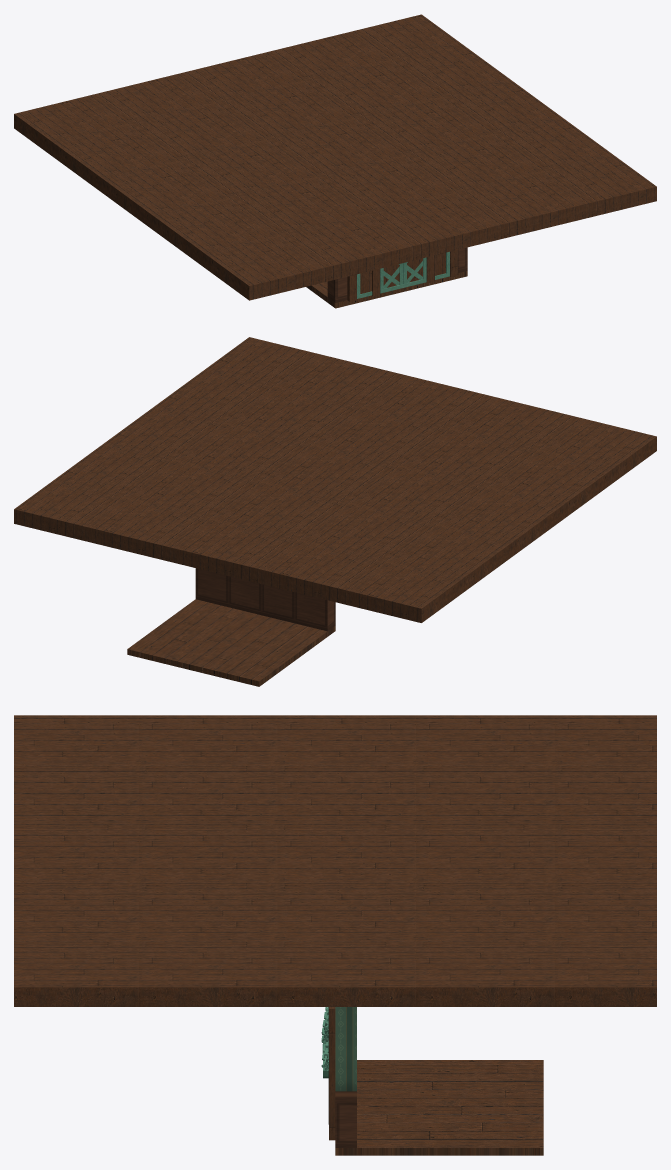
The model's file is Livingroom_Kit.fbx.
3 renders of one model, top to bottom at view 1: azimuth 30°, elevation 25°; view 2: azimuth 150°, elevation 25°; view 3: azimuth 270°, elevation 25°, orthographic. The views are drawn at different scales.
Visible parts, largest first — view 1: LR_Kit_Roof, LR_Kit_Leaf_Double, LR_Kit_Door, LR_Kit_Leaf_X, LR_Kit_Floor_3m, LR_Kit_Door_Big; view 2: LR_Kit_Roof, LR_Kit_Floor_3m, LR_Kit_Wall_3m, LR_Kit_Door; view 3: LR_Kit_Roof, LR_Kit_Floor_3m, LR_Kit_Door, LR_Kit_Door_Big.
Part boxes in pixels (<box>): LR_Kit_Roof: <box>14,14,656,300</box>; LR_Kit_Leaf_Double: <box>357,251,450,298</box>; LR_Kit_Door: <box>327,247,467,302</box>; LR_Kit_Leaf_X: <box>380,257,426,293</box>; LR_Kit_Floor_3m: <box>306,271,467,308</box>; LR_Kit_Door_Big: <box>335,247,467,301</box>; LR_Kit_Roof: <box>14,337,656,622</box>; LR_Kit_Floor_3m: <box>127,599,335,686</box>; LR_Kit_Wall_3m: <box>195,569,327,629</box>; LR_Kit_Door: <box>195,568,335,631</box>; LR_Kit_Roof: <box>14,715,656,1006</box>; LR_Kit_Floor_3m: <box>335,1060,543,1155</box>; LR_Kit_Door: <box>328,1007,356,1147</box>; LR_Kit_Door_Big: <box>329,1007,335,1140</box>.
Size of the model in its own units: 9.26 by 3.44 by 9.26.
